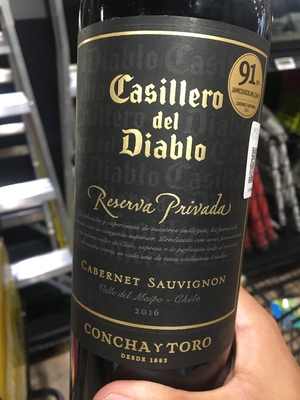casillero del diablo reserva privada cabernet sauvignon: (65, 4, 273, 400)
